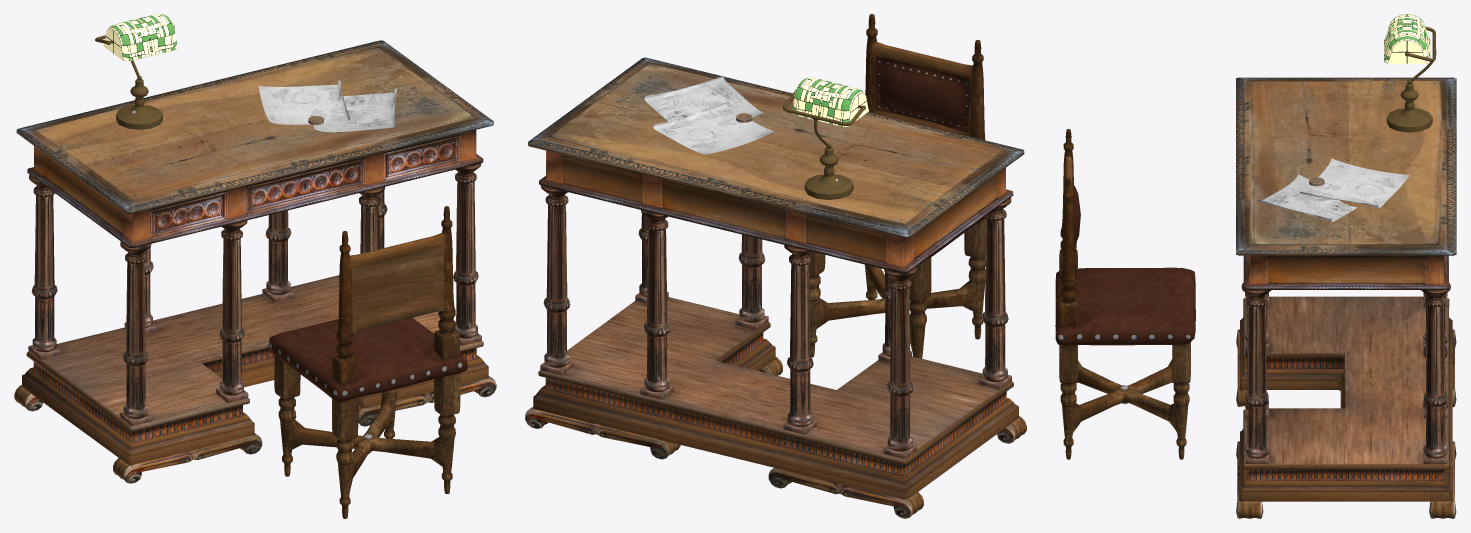
Rendered from old_desk.glb.
3 views of the same model, side by side, from view 1: azimuth 30°, elevation 25°; view 2: azimuth 150°, elevation 25°; view 3: azimuth 270°, elevation 25° (orthographic). The views are drawn at different scales.
Visible parts, largest first — view 1: BIROU_LP, SCAUN_LP, polySurface1_Lamp_0, foaie1, foaie2; view 2: BIROU_LP, SCAUN_LP, polySurface1_Lamp_0, foaie1, foaie2; view 3: BIROU_LP, SCAUN_LP, polySurface1_Lamp_0, foaie1, foaie2.
Part boxes in pixels (x1,y1,x2,y2): BIROU_LP: [14, 40, 496, 483]; SCAUN_LP: [268, 206, 467, 518]; polySurface1_Lamp_0: [95, 14, 177, 129]; foaie1: [258, 80, 349, 124]; foaie2: [314, 88, 397, 132]; BIROU_LP: [525, 57, 1026, 518]; SCAUN_LP: [808, 14, 986, 358]; polySurface1_Lamp_0: [783, 77, 868, 199]; foaie1: [653, 102, 776, 154]; foaie2: [644, 75, 765, 121]; BIROU_LP: [1236, 77, 1456, 518]; SCAUN_LP: [1055, 129, 1195, 459]; polySurface1_Lamp_0: [1384, 14, 1436, 132]; foaie1: [1300, 158, 1409, 208]; foaie2: [1258, 174, 1357, 222].
Size of the model in its own units: 2.97 by 2.89 by 2.83.
Materials: 6 (6 with a texture image).
